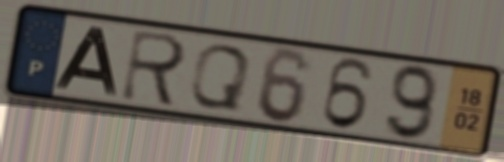6: (253, 44, 316, 126), (319, 55, 376, 132)
9: (384, 62, 440, 143)
A: (51, 24, 121, 99)
Q: (185, 42, 255, 113)
R: (117, 26, 191, 110)
